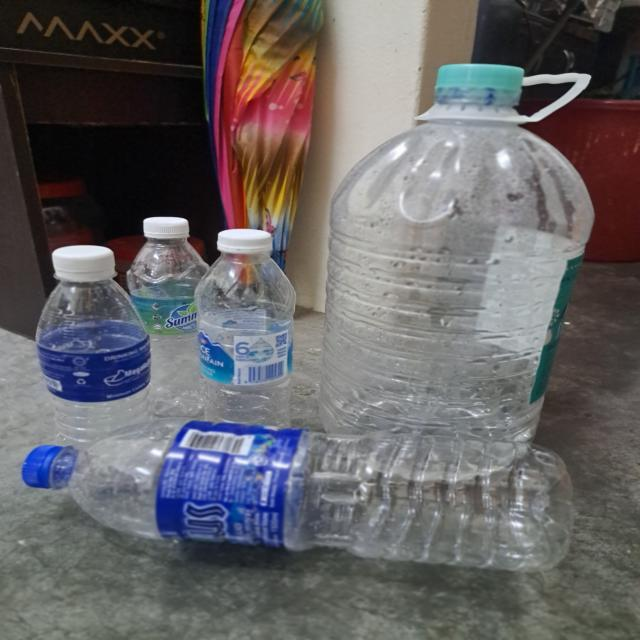plastic bottle: (327, 121, 593, 486), (60, 425, 569, 583), (39, 277, 156, 449), (197, 252, 294, 442), (125, 247, 216, 413)
plastic bottle cap: (434, 62, 524, 108), (52, 245, 119, 285), (21, 444, 70, 494), (218, 226, 268, 261), (142, 214, 190, 242)
